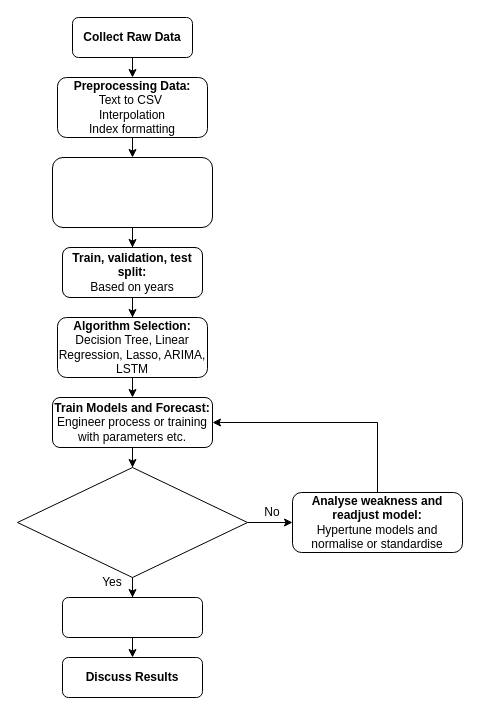
Image size: 480x715. Some labels were removed from this diagram. Here are the shapes that lost their labels. From the top down, the centre of each, then its label:
At (132,192): "EDA: Trends Autocorrelation Correlation Seasonality".
At (132,522): "Interpret Results: Do the results achieve expected accuracy and performance?".
At (132,617): "Evaluation: R2, RMSE, MAE, MAPE".
